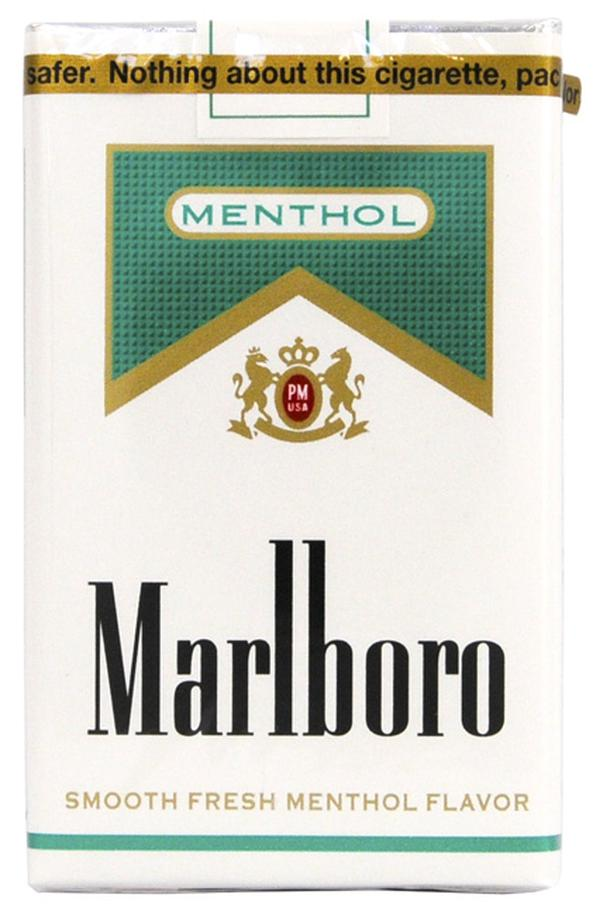marlboro_mentol: (32, 32, 547, 891)
